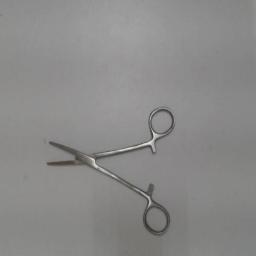Mayo Needle Holder: (42, 102, 178, 238)
